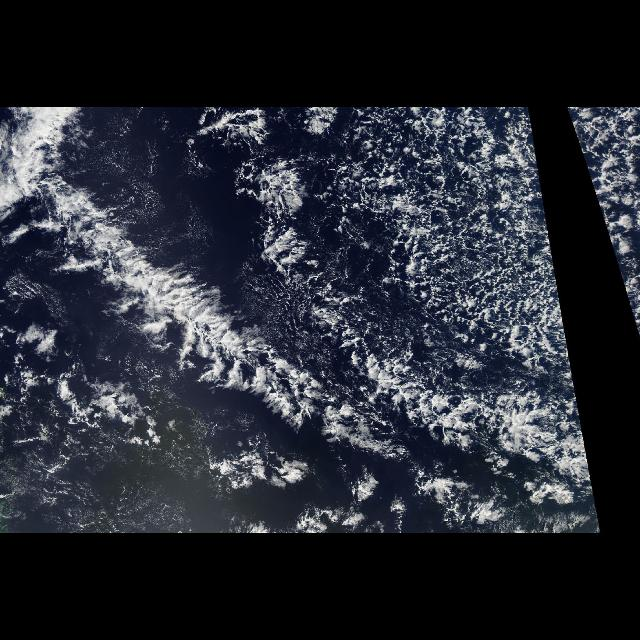Fish: (9, 168, 562, 514)
Gravel: (208, 108, 578, 404), (428, 414, 602, 528), (563, 107, 639, 343), (4, 374, 180, 456)
Sugar: (11, 442, 213, 526)
